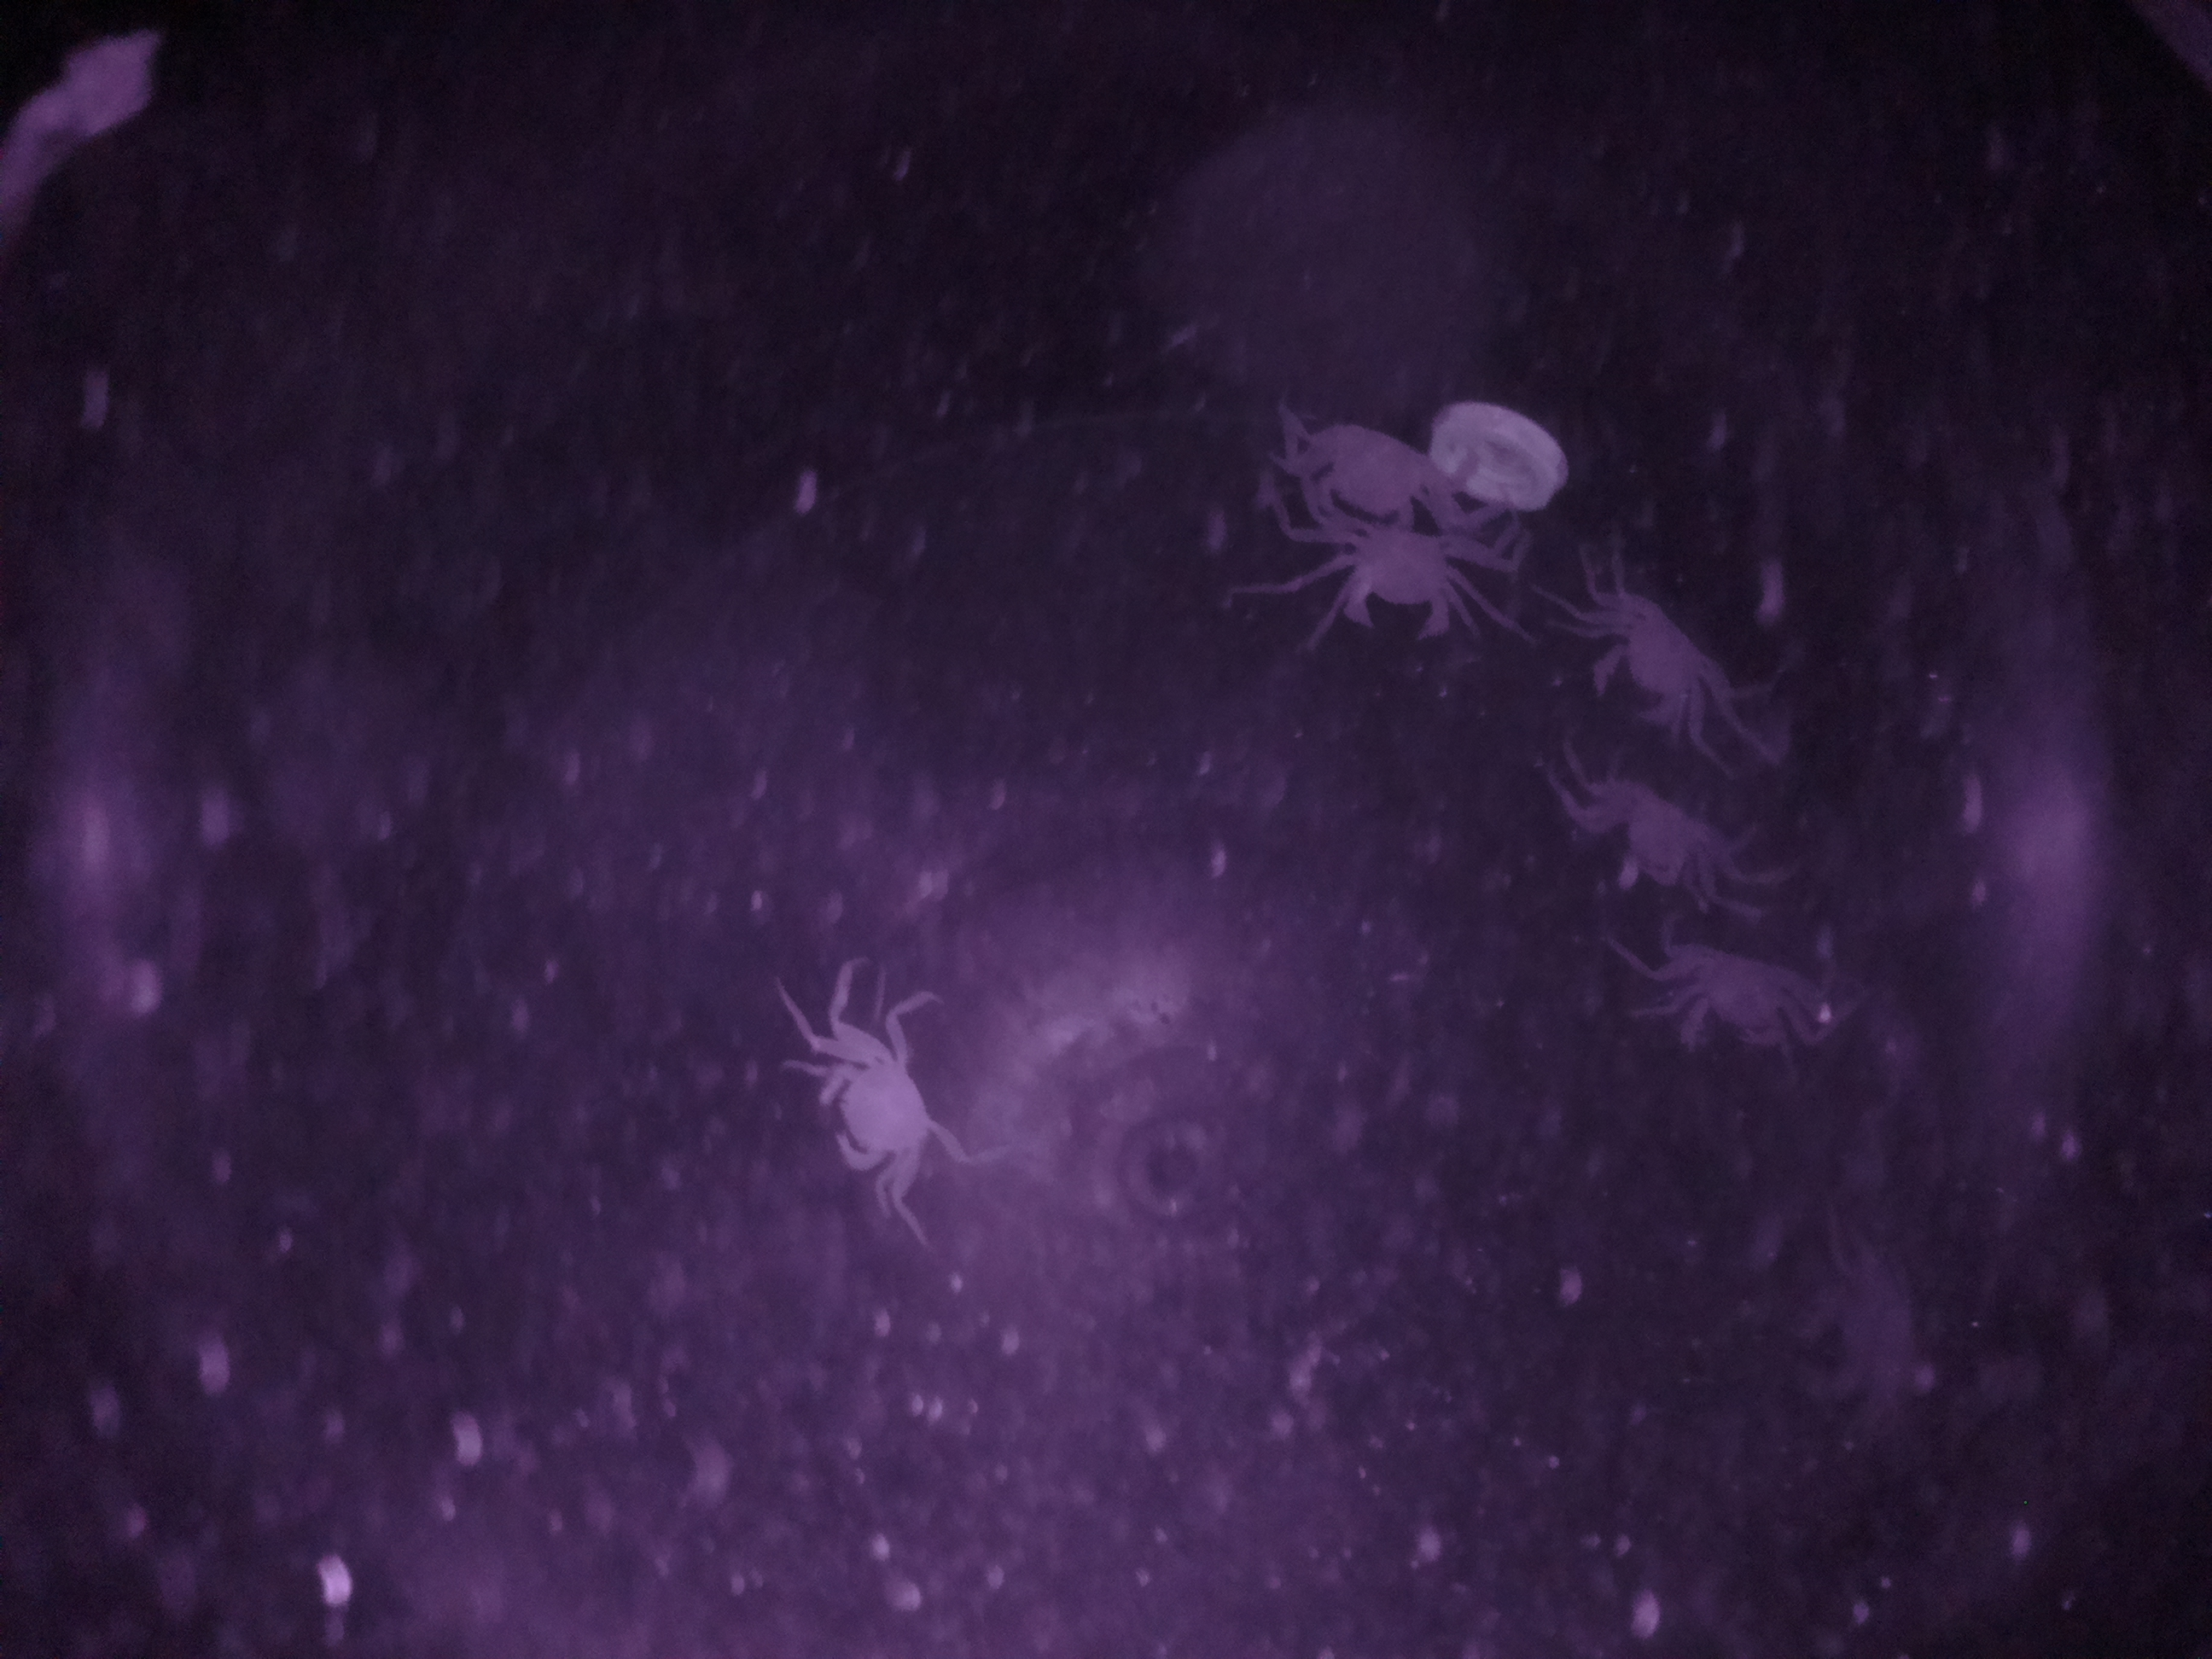Crab: (782, 988, 977, 1215), (1611, 903, 1855, 1072), (1564, 563, 1761, 755), (1284, 509, 1524, 653)
